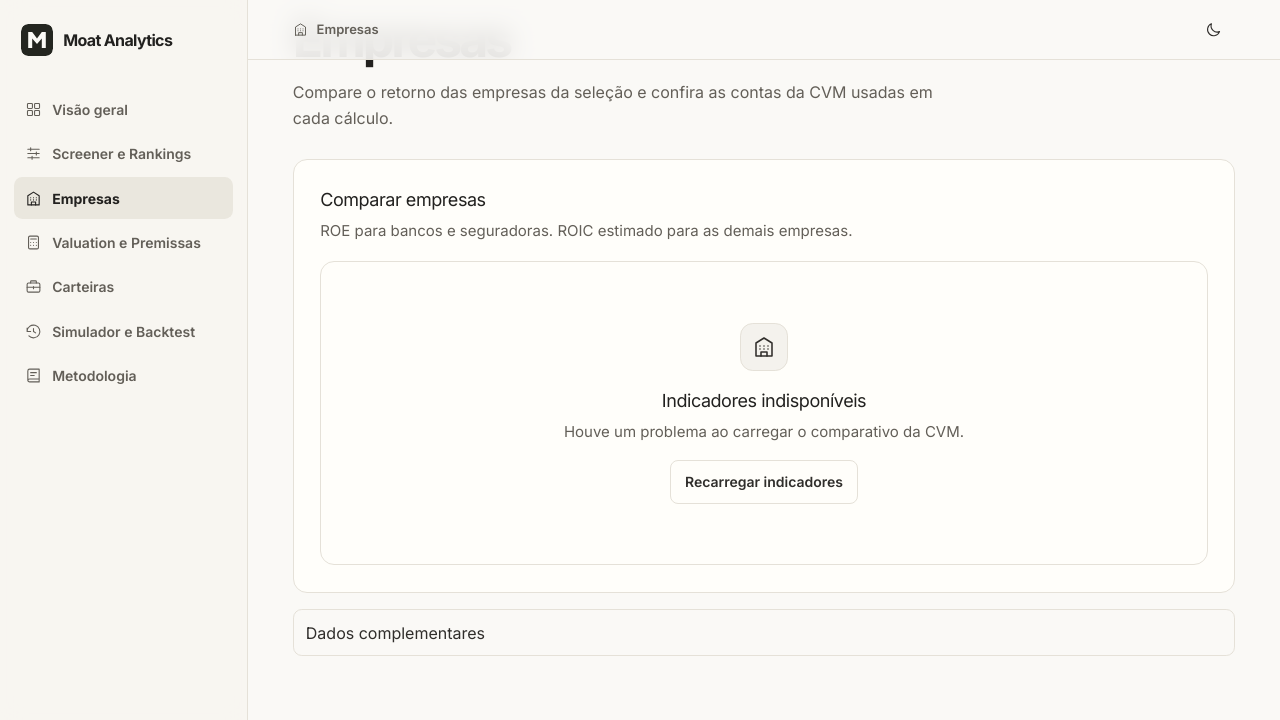
Test: Moat Analytics › mostra indisponibilidade quando o snapshot não existe
The image size is (1280, 720).
Later steps or results of the test are not shown.
(page scrolled)
Check: the heading "Indicadores indisponíveis" is shown, box [662, 387, 866, 414]
Click the heading "Dados complementares" at (395, 633), box [306, 623, 485, 643]
(page scrolled)
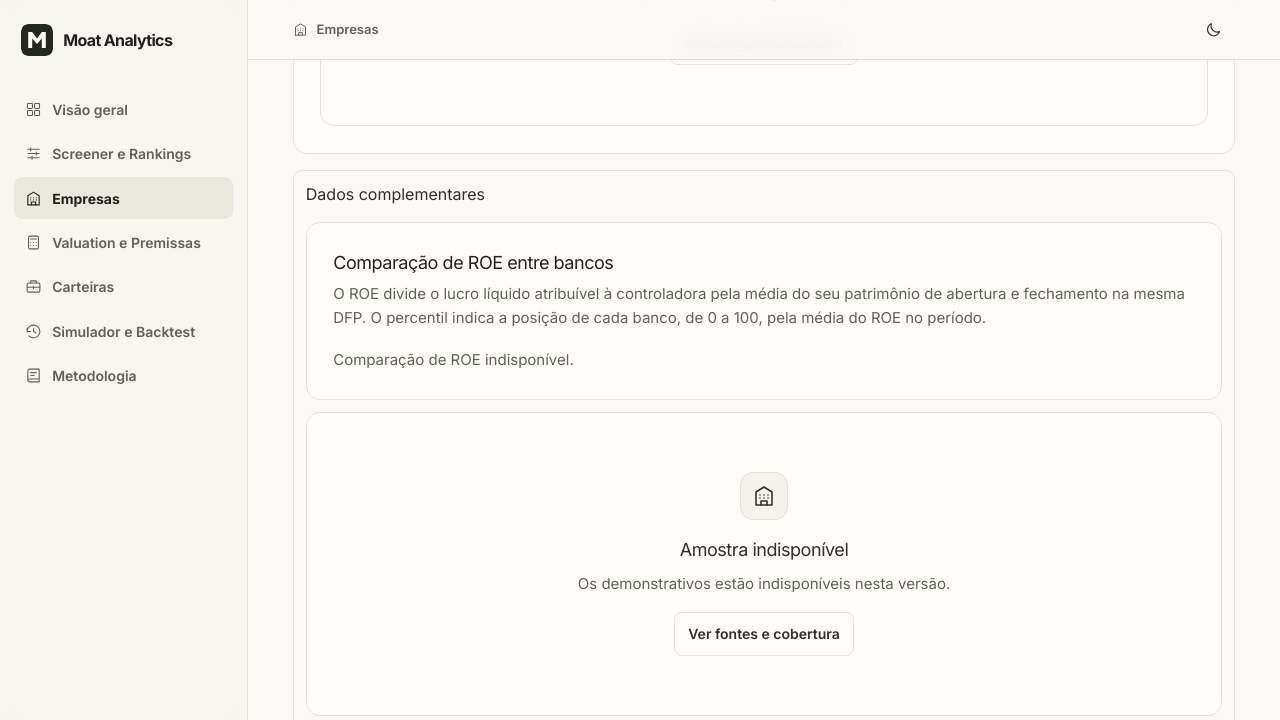
Check: the heading "Amostra indisponível" is shown, box [680, 536, 848, 563]
Check: the text "Comparação de ROE indisponível." is shown, box [333, 350, 574, 369]
